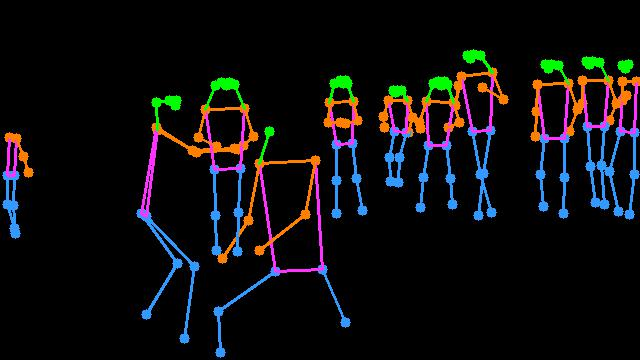normal: (522, 48, 640, 228), (409, 40, 510, 228), (185, 67, 260, 266), (322, 70, 371, 224), (1, 114, 46, 257)
